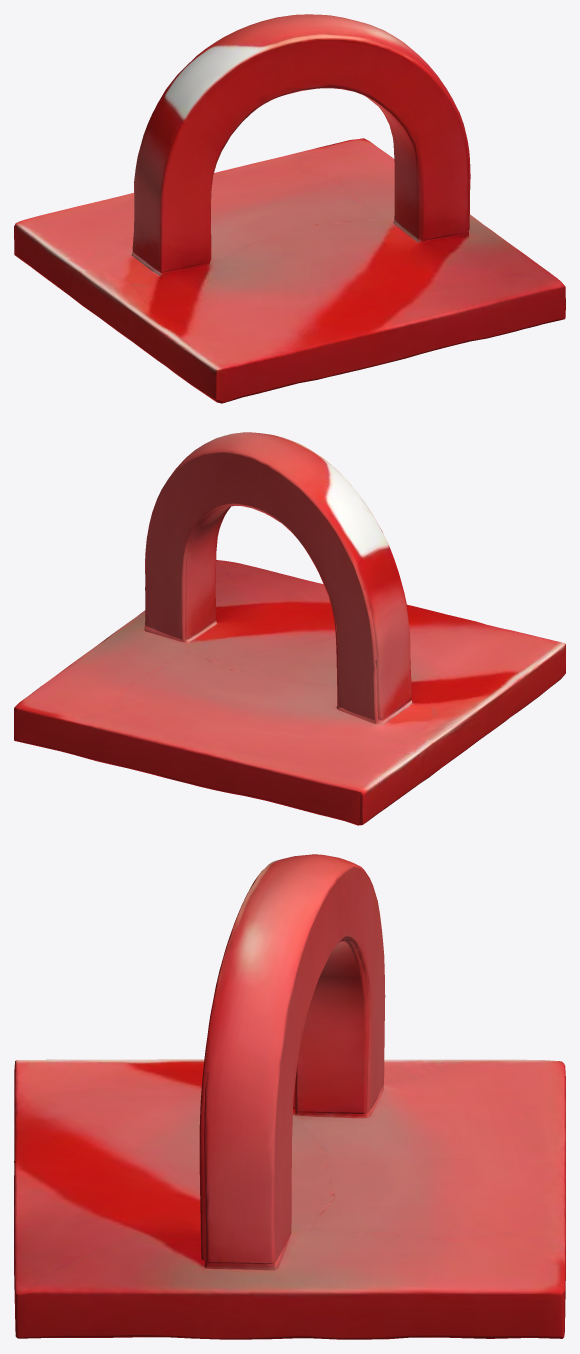
File: m2HorseshoeMagnet.glb
3 views of the same model, one above another, from view 1: azimuth 30°, elevation 25°; view 2: azimuth 150°, elevation 25°; view 3: azimuth 270°, elevation 25° (orthographic). The views are drawn at different scales.
Parts seen in each view (by area): view 1: model; view 2: model; view 3: model.
Part boxes in pixels (x1,y1,x2,y2): model: (14,14,565,403); model: (14,432,565,825); model: (14,854,565,1339).
Bounding box in the file's own units: 1.89 × 1.35 × 1.89.
1 material, 1 textured.
